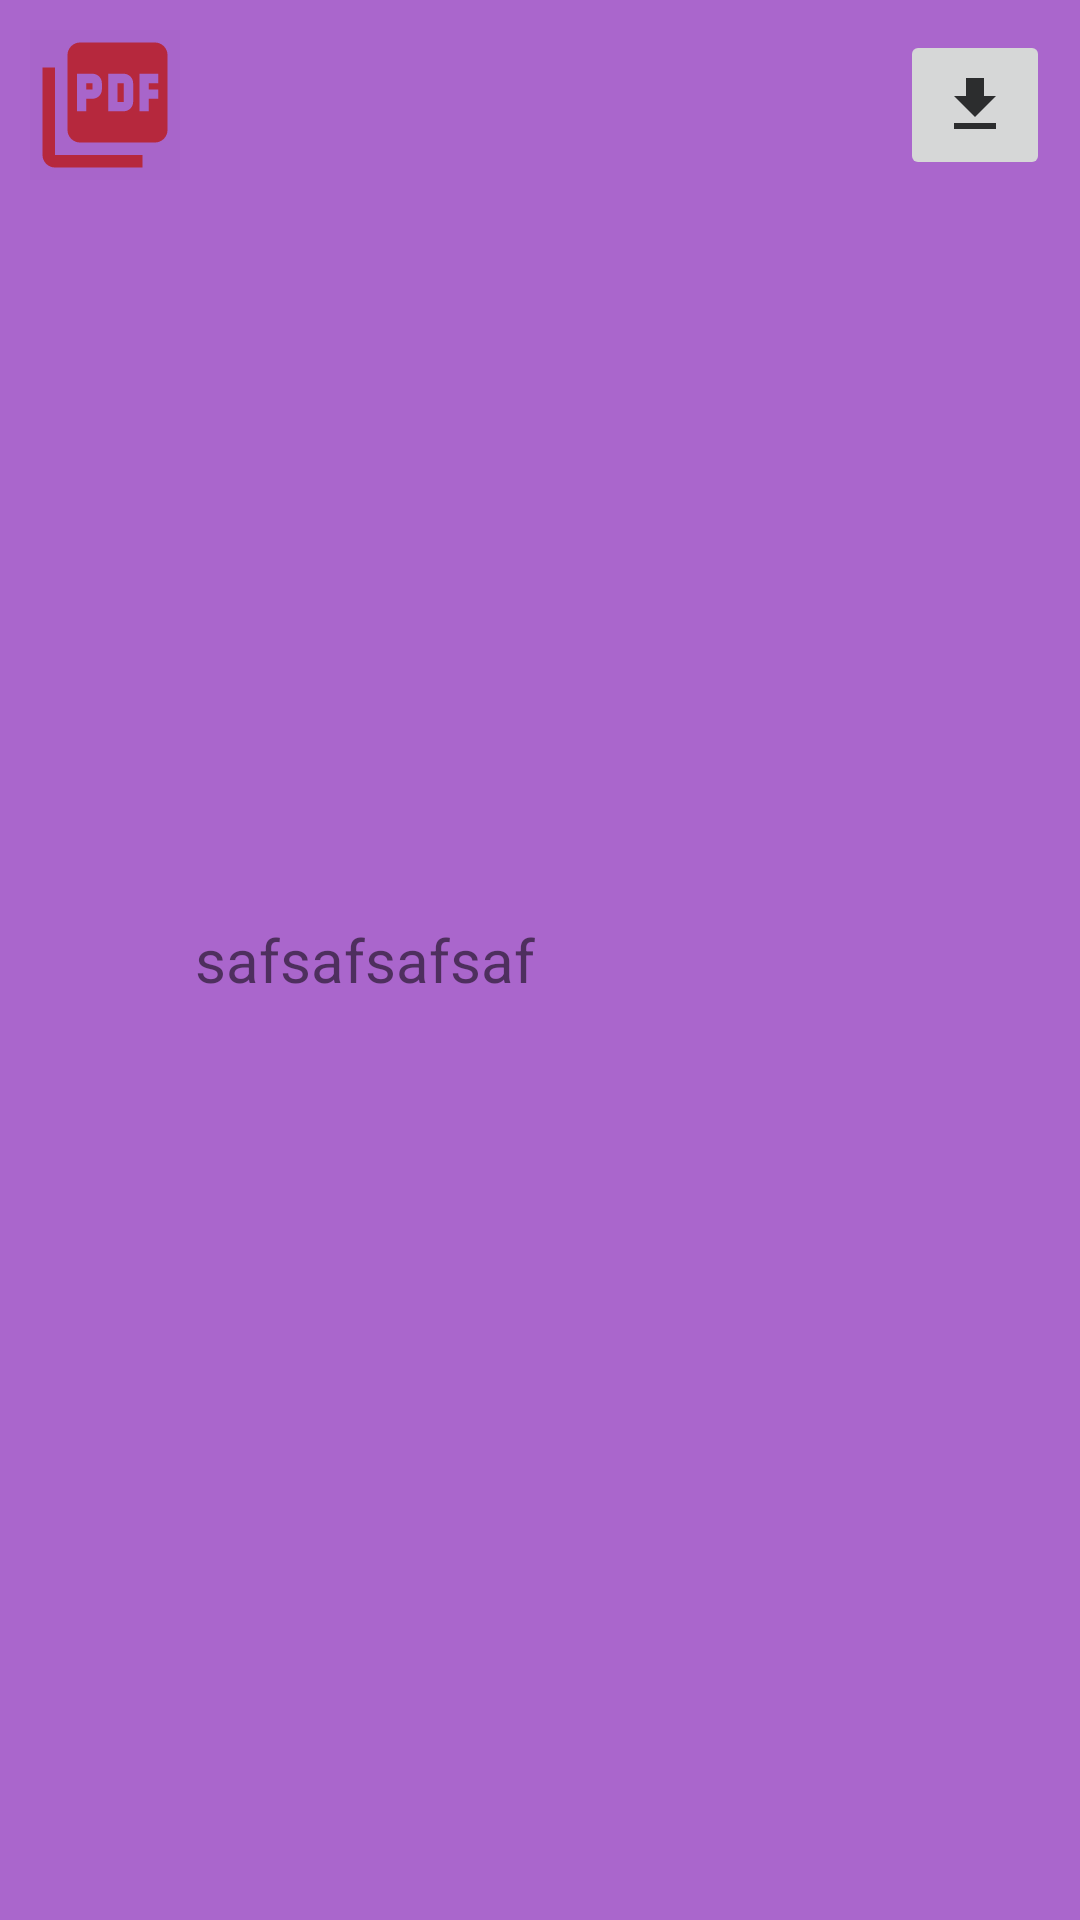

Named icons in this screenshot (1080px x 1920px) and their centers, (x,y):
down: (975,105)
file: (105,105)
